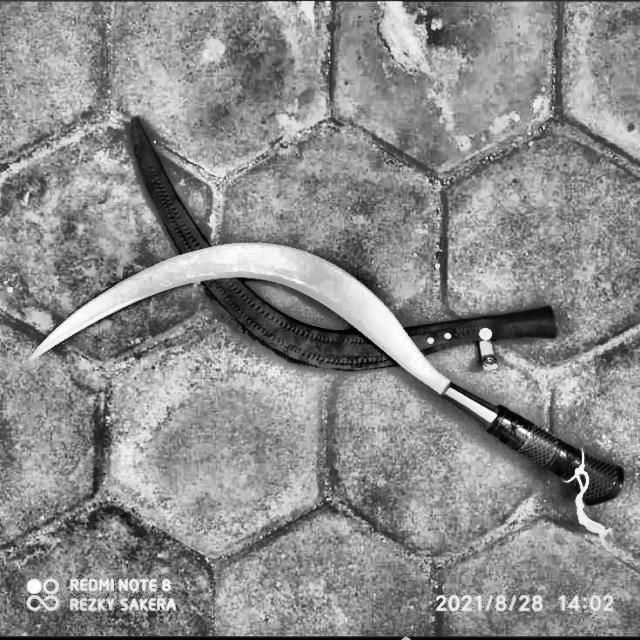celurit: (5, 228, 639, 539)
